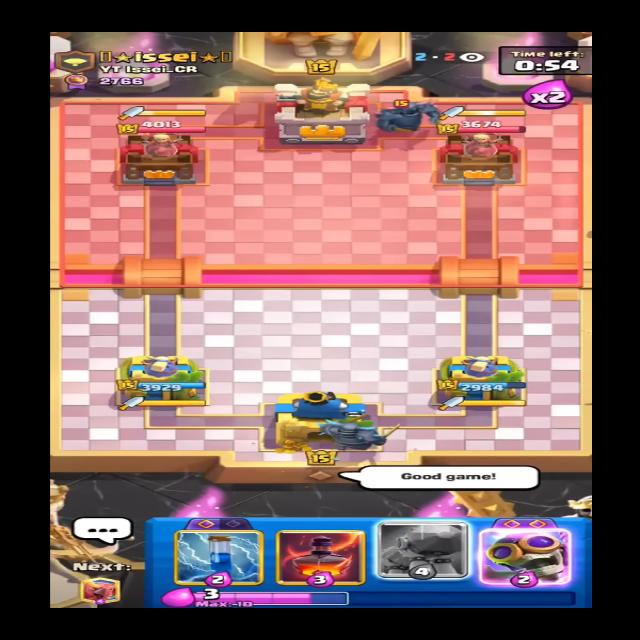pekka: (377, 95, 450, 136)
